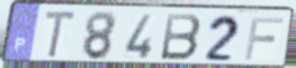2: (200, 12, 244, 65)
4: (122, 12, 154, 61)
8: (81, 9, 118, 62)
B: (159, 12, 204, 63)
F: (242, 15, 286, 62)
T: (42, 8, 78, 60)
